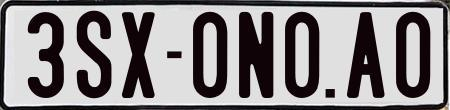0: (395, 12, 434, 101), (191, 11, 229, 99), (285, 9, 322, 95)
3: (28, 11, 64, 99)
A: (345, 12, 384, 102)
N: (236, 10, 270, 101)
S: (76, 11, 115, 104)
X: (119, 10, 155, 99)
